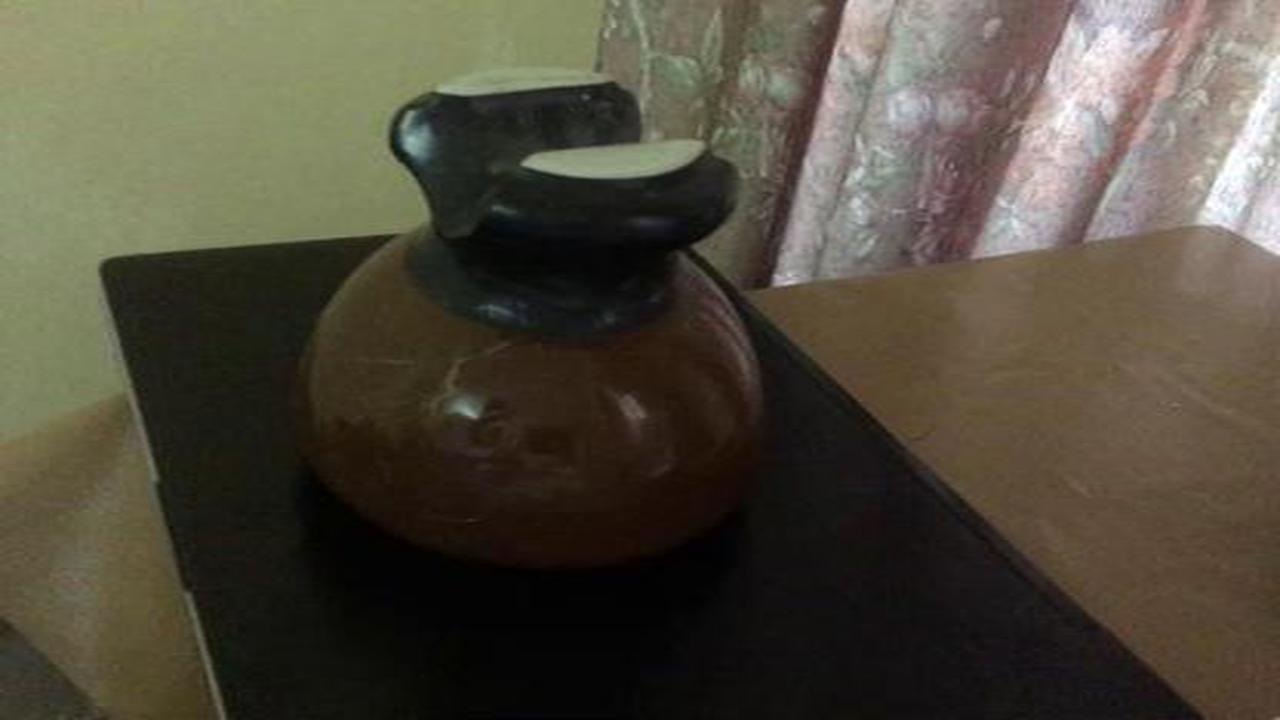insulator_pin: (284, 59, 797, 594)
